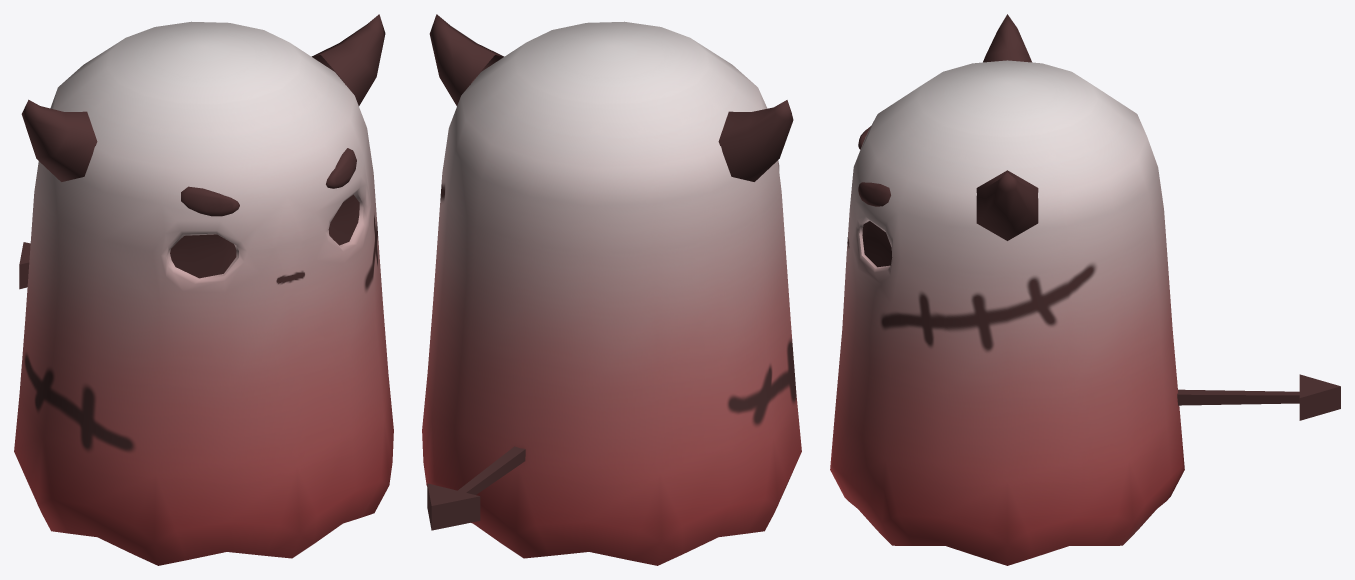
Rendered from SM_Casper06.fbx.
3 renders of one model, left to right at view 1: azimuth 30°, elevation 25°; view 2: azimuth 150°, elevation 25°; view 3: azimuth 270°, elevation 25°, orthographic. The views are drawn at different scales.
Visible parts, largest first — view 1: Casper06; view 2: Casper06; view 3: Casper06.
Part boxes in pixels (x1,y1,x2,y2): Casper06: (14,14,393,565); Casper06: (422,14,801,565); Casper06: (830,14,1340,565).
Size of the model in its own units: 91.25 by 108 by 121.
